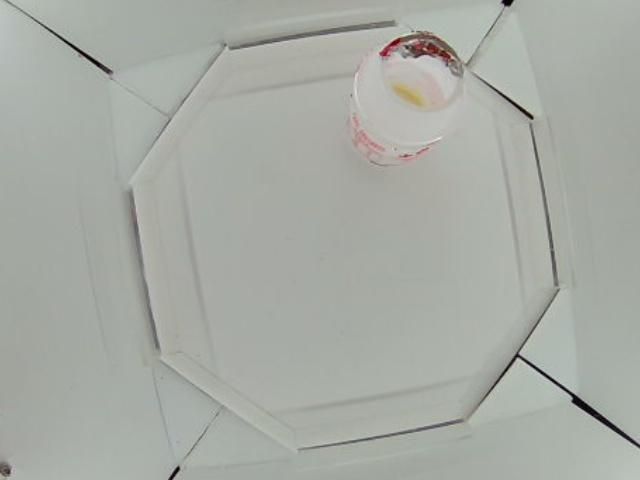Bottle: (347, 27, 468, 168)
